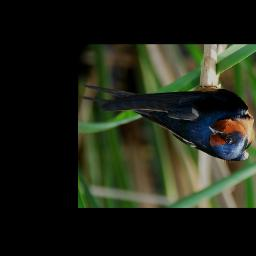Swallow: (81, 83, 256, 163)
